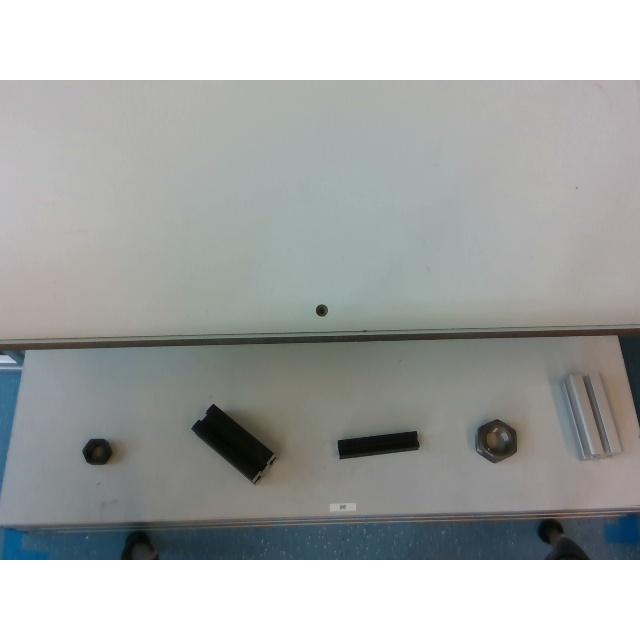F20_20_B: (338, 429, 420, 458)
M20: (82, 438, 110, 464)
M30: (476, 418, 516, 462)
S40_40_B: (192, 404, 276, 484)
S40_40_G: (563, 373, 621, 457)
